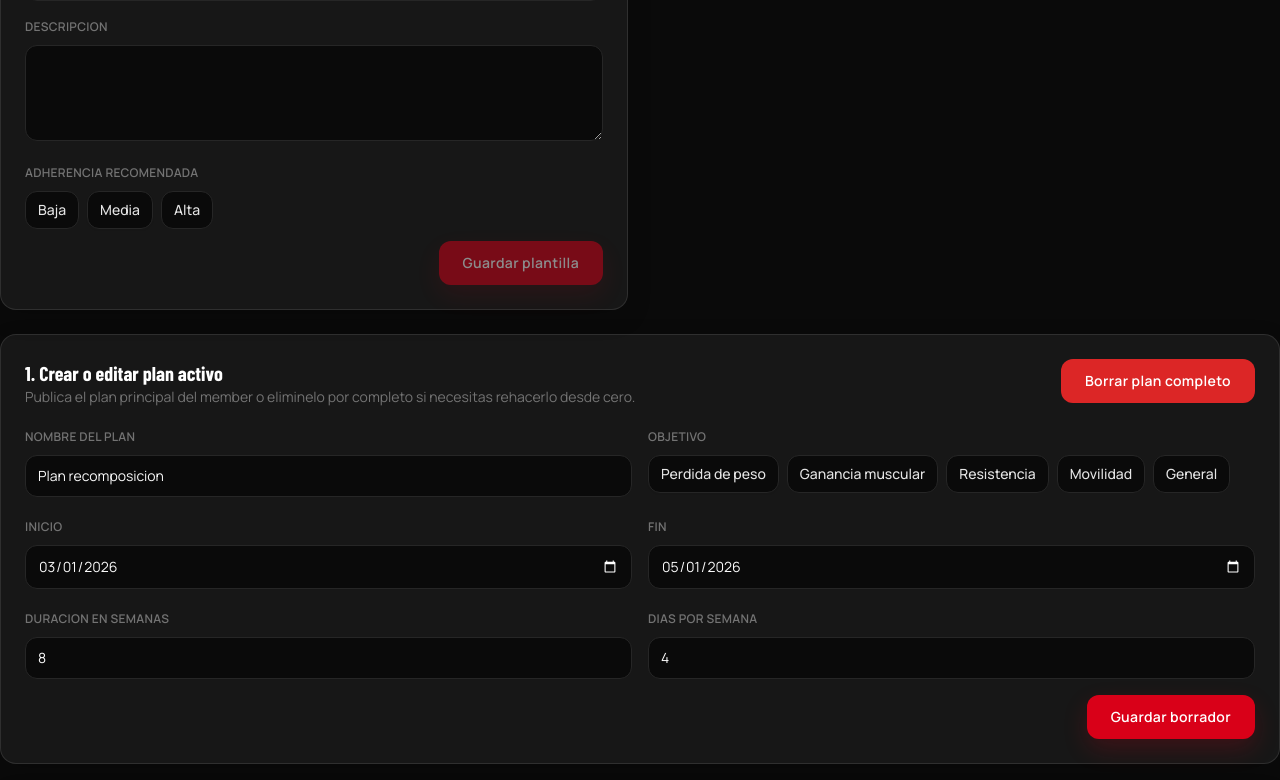
Scenario: TrainerProgramPage › opens a strong confirmation modal before deleting the active plan
Later steps or results of the test are not shown.
(page scrolled)
Click the button with test id "delete-plan-button" at (1158, 380), box [1061, 358, 1255, 402]
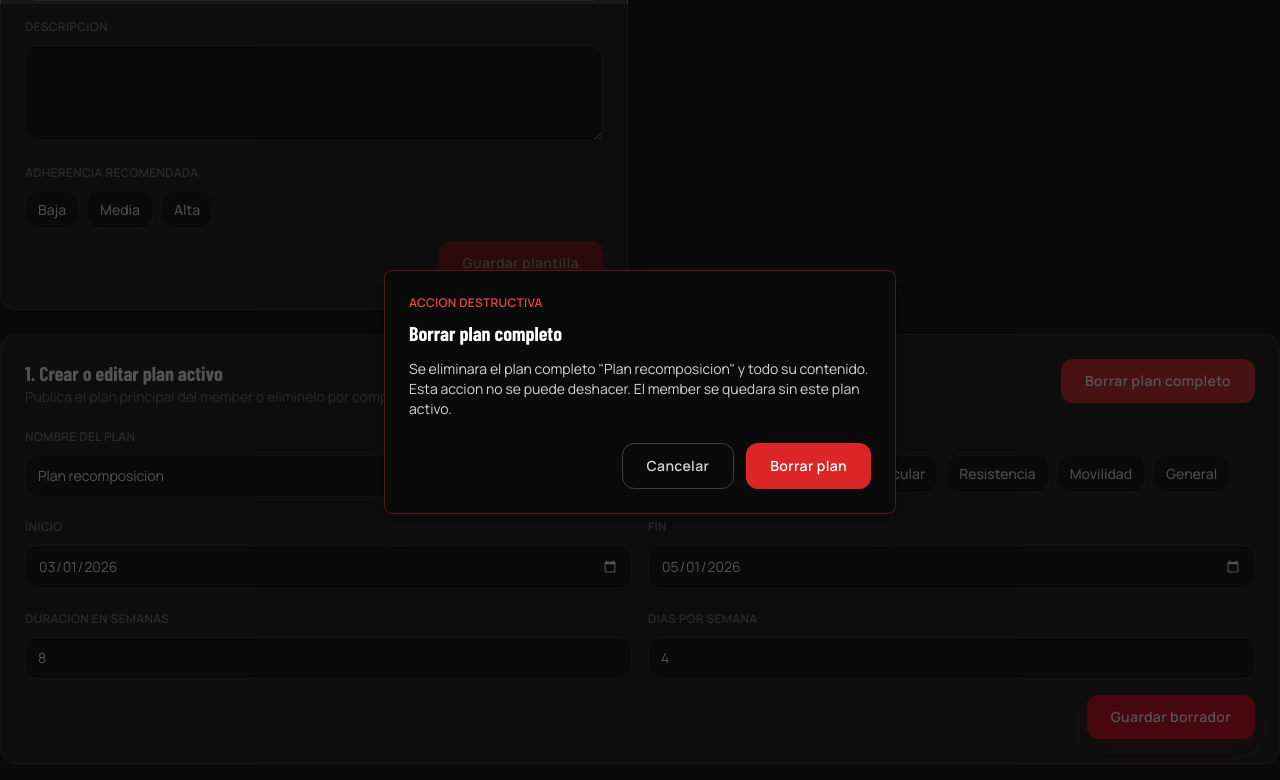
Expected: the dialog with test id "delete-confirm-dialog" is shown
Expected: the text "Se eliminara el plan completo \"Plan recomposicion\"" is shown, [409, 359, 868, 418]
